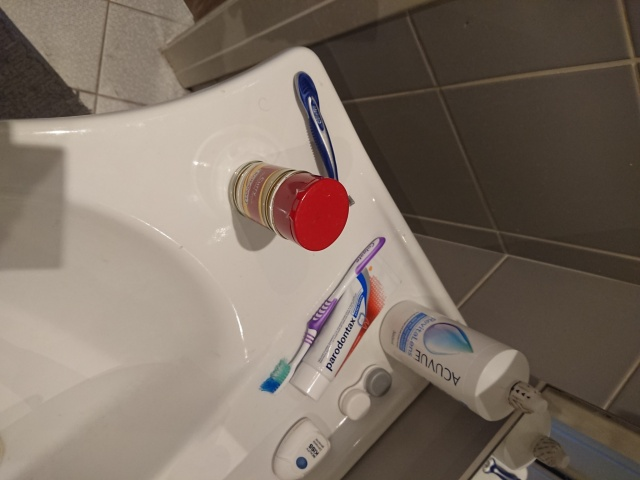Kotanyi Curry Spices Mix 70g: (229, 159, 352, 253)
